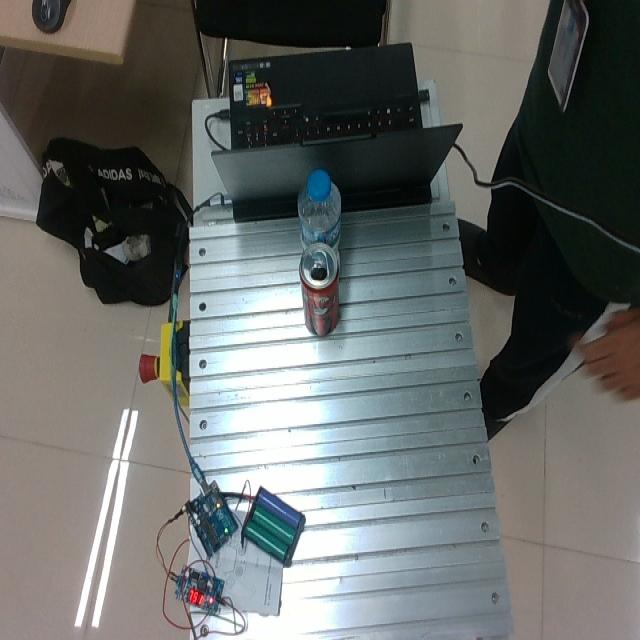coca: (298, 240, 340, 336)
lavie: (296, 168, 341, 255)
